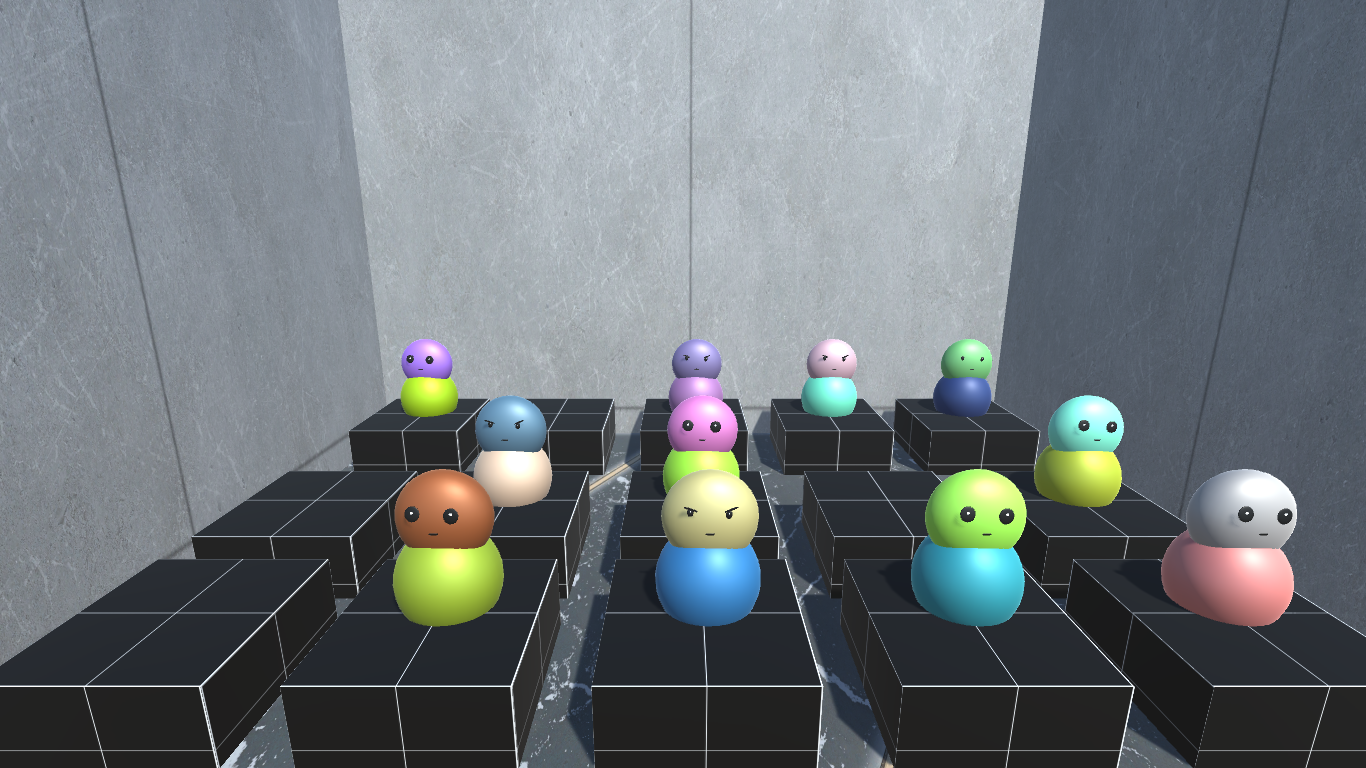blob_atento: (1163, 466, 1303, 629), (910, 469, 1029, 623), (391, 464, 502, 619), (1036, 392, 1129, 508), (664, 396, 742, 495), (398, 341, 460, 414)
blob_normal: (931, 337, 1004, 423)
blob_raiva: (658, 474, 763, 627), (472, 394, 554, 507), (801, 336, 862, 423), (669, 335, 717, 403)
